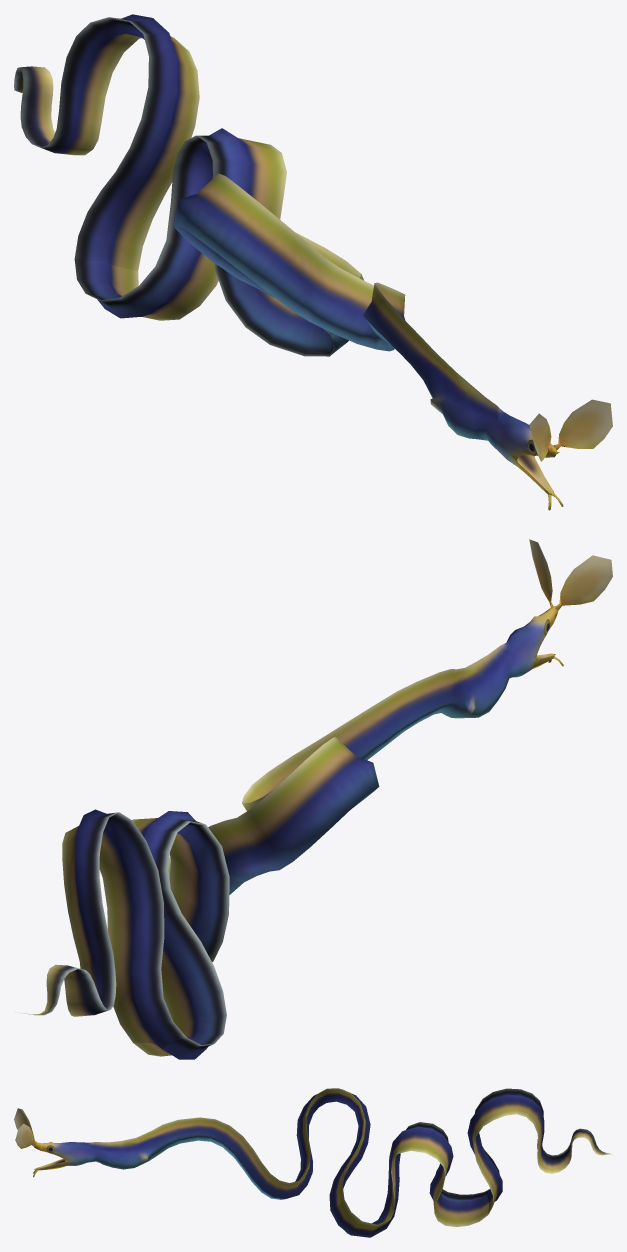
Rendered from ribbon-eel.glb.
The picture shows the model from 3 angles, top to bottom: view 1: azimuth 30°, elevation 25°; view 2: azimuth 150°, elevation 25°; view 3: azimuth 270°, elevation 25°; orthographic projection. The views are drawn at different scales.
Visible parts, largest first — view 1: FishHanahigeutsubo__mHanahigeutubo; view 2: FishHanahigeutsubo__mHanahigeutubo; view 3: FishHanahigeutsubo__mHanahigeutubo.
Part boxes in pixels (<box>): FishHanahigeutsubo__mHanahigeutubo: <box>14,14,612,510</box>; FishHanahigeutsubo__mHanahigeutubo: <box>17,539,612,1059</box>; FishHanahigeutsubo__mHanahigeutubo: <box>14,1088,612,1237</box>.
Size of the model in its own units: 2.89 by 3.64 by 13.88.
Materials: 1 (1 with a texture image).
